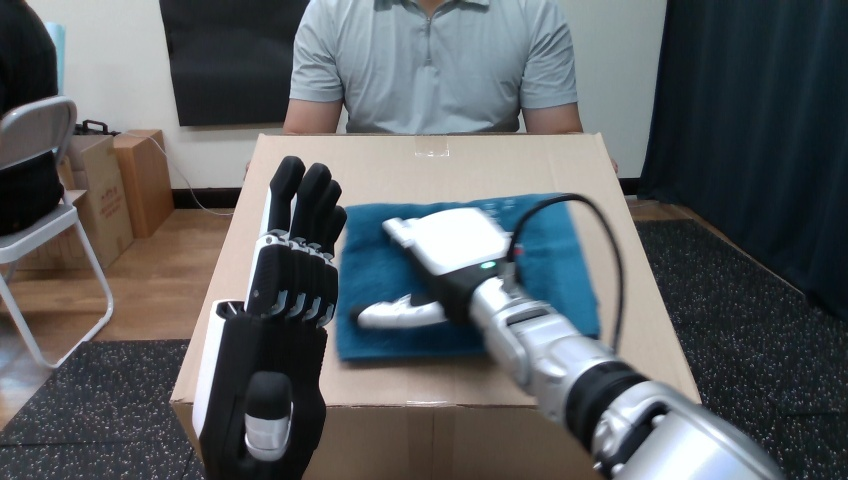left robot hand: (352, 193, 781, 478), (192, 156, 346, 478), (513, 200, 619, 348)
